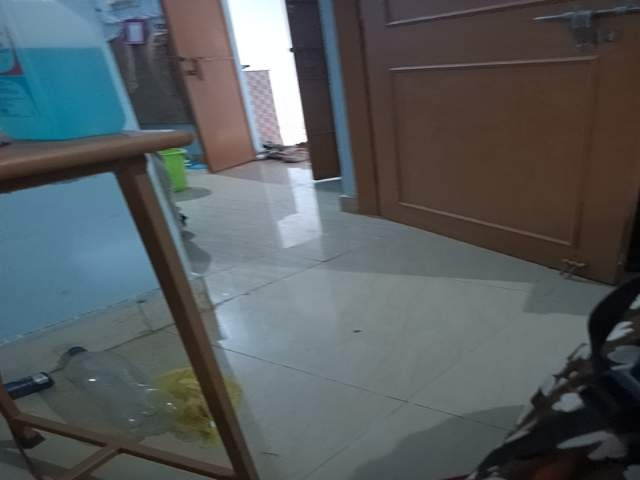pothole: (537, 403, 640, 480)
